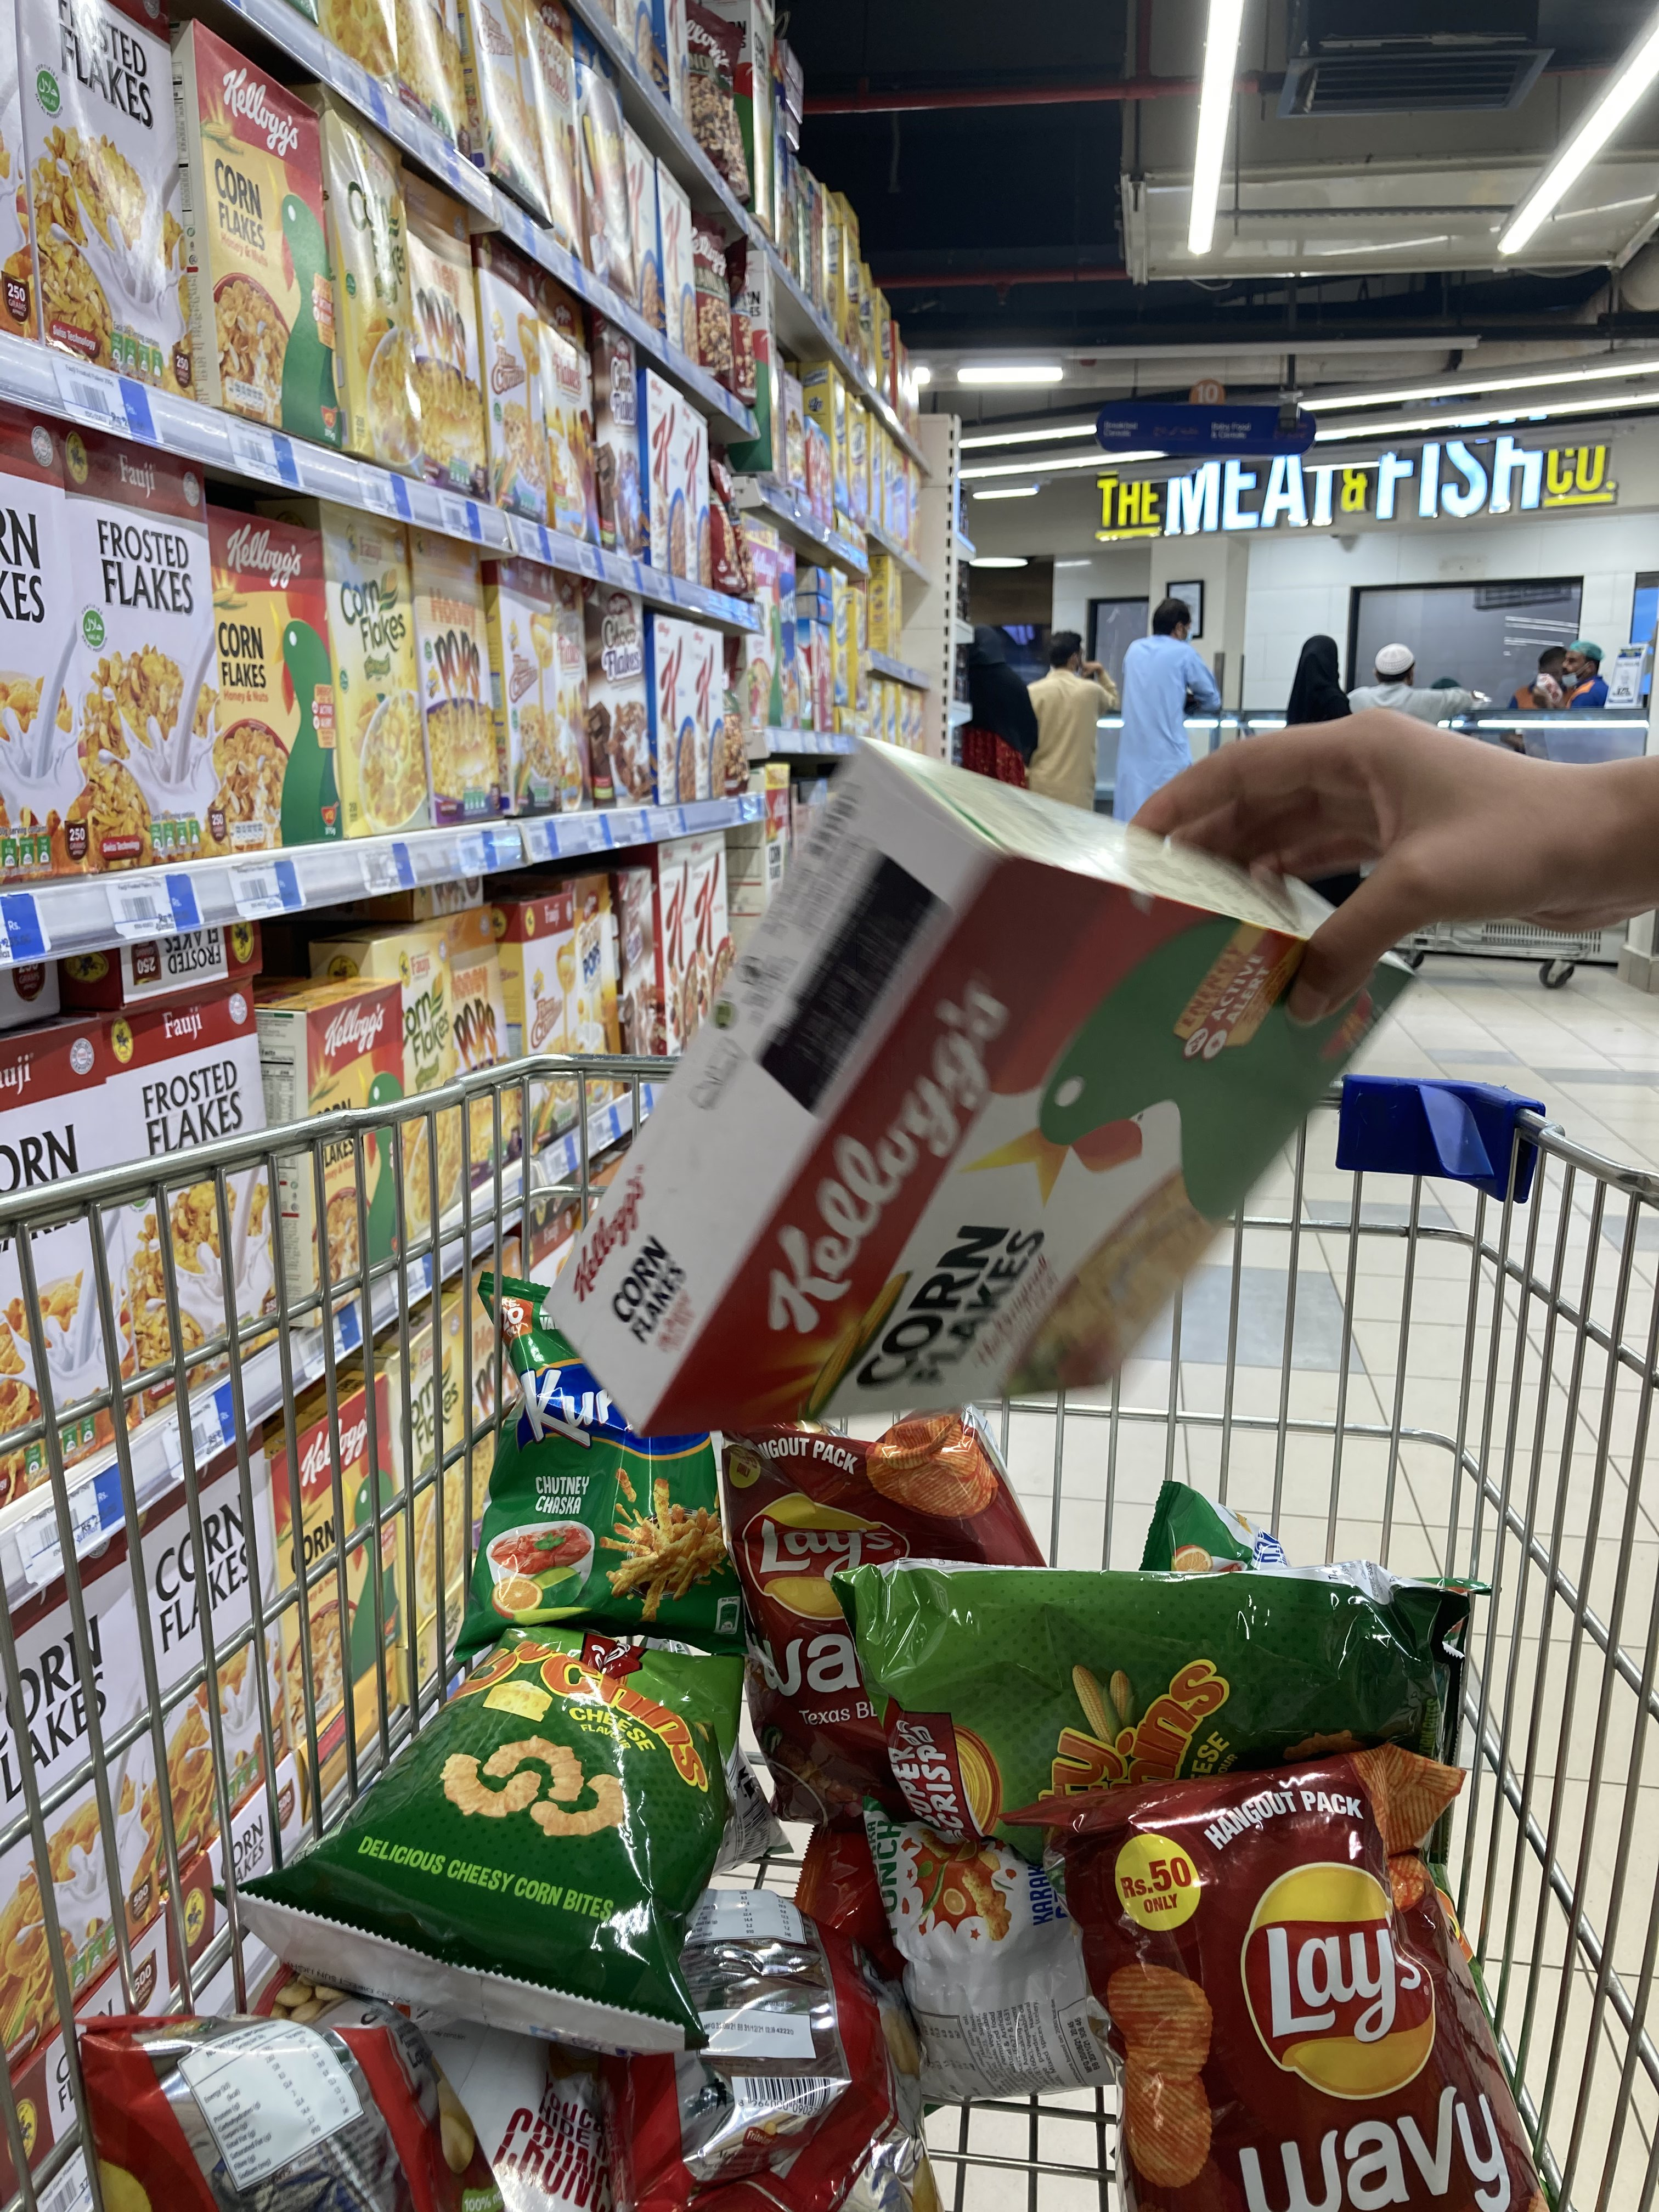Kellogg's Corn Flakes: (537, 735, 1431, 1453)
